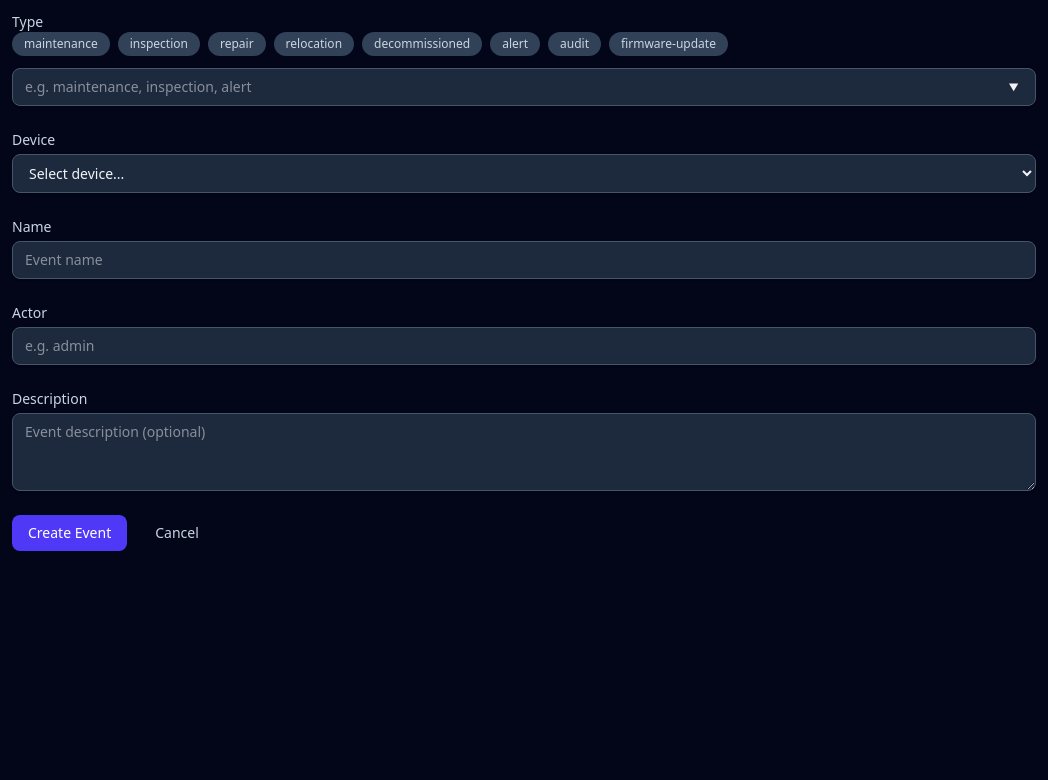
EventForm › shows validation errors for empty required fields
The width and height of the screenshot is (1048, 780).
Click the button "Create Event". click: (70, 533)
box: [12,515,127,551]
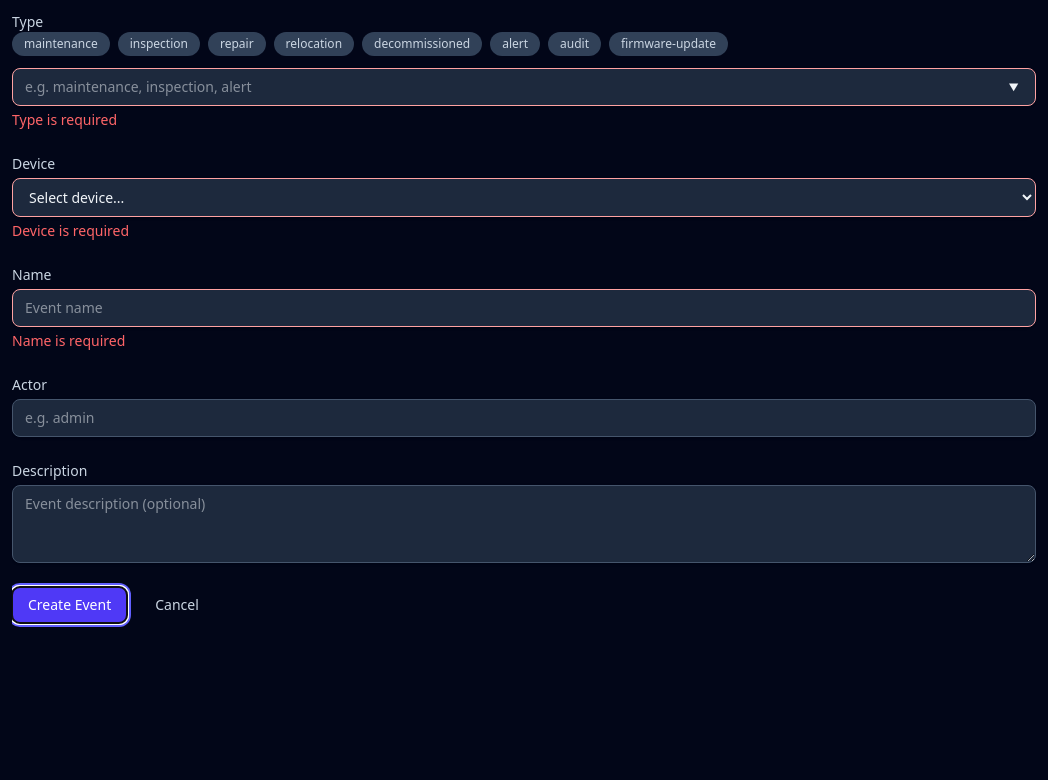
Expected: the text "Type is required" is shown, [12,110,117,129]
Expected: the text "Name is required" is shown, [12,331,125,350]
